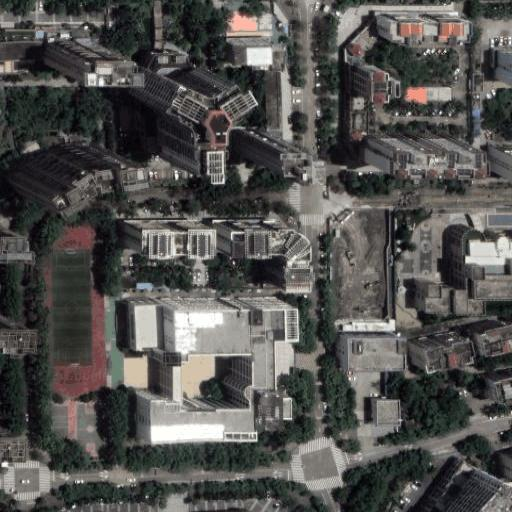building: (130, 303, 278, 436), (122, 62, 215, 163), (410, 223, 512, 310), (211, 222, 296, 286), (342, 18, 376, 164), (3, 138, 70, 186), (364, 137, 459, 165), (443, 466, 492, 512), (376, 17, 460, 40), (335, 337, 396, 368), (409, 336, 462, 371), (465, 318, 512, 355), (232, 44, 288, 71), (51, 42, 110, 67), (225, 132, 271, 163), (122, 221, 168, 252), (125, 303, 155, 350), (486, 142, 512, 186), (194, 497, 270, 512), (479, 371, 512, 403), (351, 64, 382, 95), (471, 206, 512, 229), (266, 71, 282, 129), (0, 41, 45, 61), (275, 342, 294, 389), (167, 221, 196, 251), (406, 87, 452, 105), (492, 51, 512, 84), (342, 319, 396, 331), (494, 448, 512, 482), (377, 401, 400, 426), (72, 138, 96, 161), (153, 1, 162, 48), (472, 109, 481, 135)
